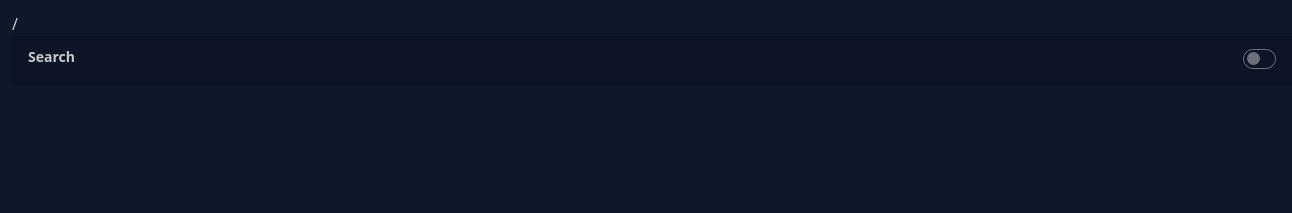
it: NavSearchSection — the box is "Search", and the flyout's controls are gone › draws NO "Full page" control and NO streamed-answer area
This screenshot has width=1292, height=213.
Step 1. Click the checkbox labelled "Search" → [1260, 59], box [1243,49,1276,69]
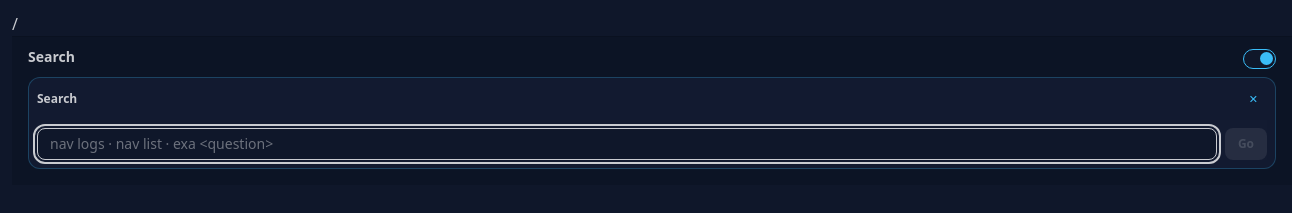
Step 2. Type "what does the compactor do?" into the dropdown named "Search commands" → [627, 144], box [37,128,1217,160]
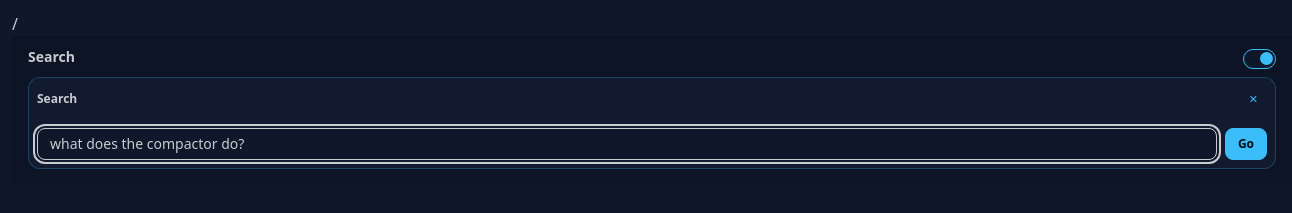
Step 3. Click the button labelled "Go" → [1246, 144], box [1225,128,1267,160]
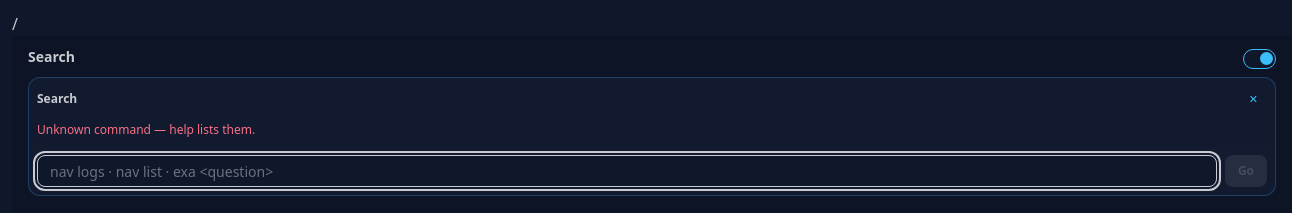
Now the text "Unknown command — help lists them." is shown, box [37,121,255,138]
